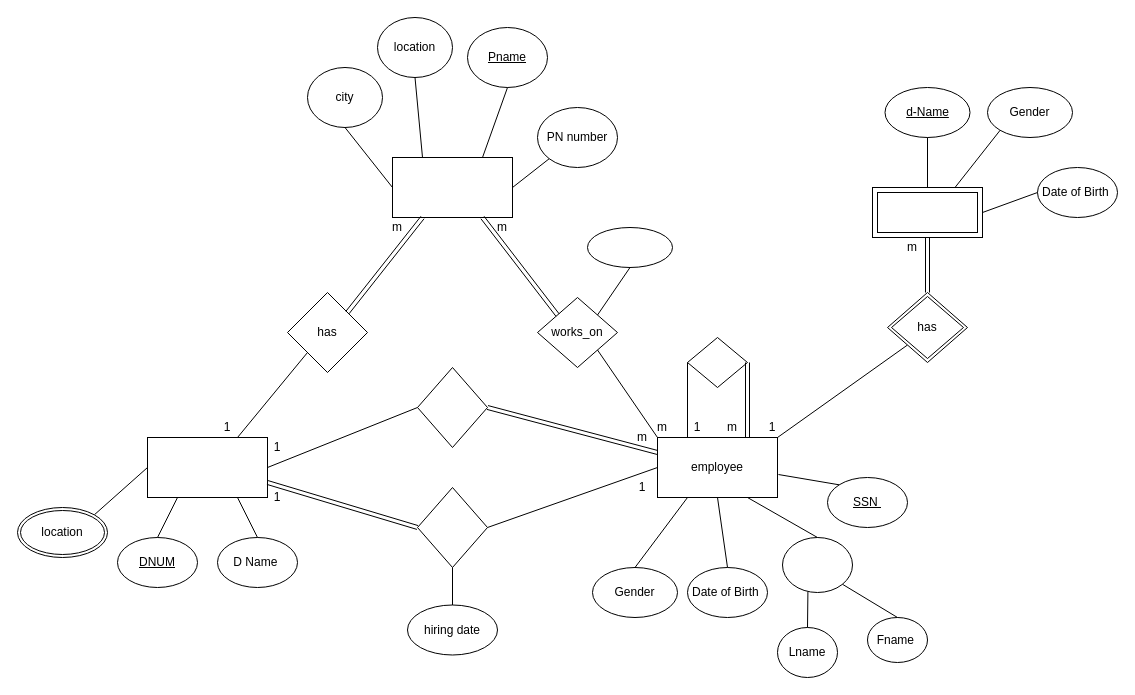
Some shapes in this 1135 by 695 pixel diagram are drawn without their labels. Each missing label, with the centre of its shape:
"department" goes at point (207, 467).
"dependent" goes at point (927, 212).
"manage" goes at point (452, 527).
"Name" goes at point (817, 564).
"project" goes at point (452, 187).
"supervisor" goes at point (717, 362).
"working hour" goes at point (629, 247).
"works_in" goes at point (452, 407).
